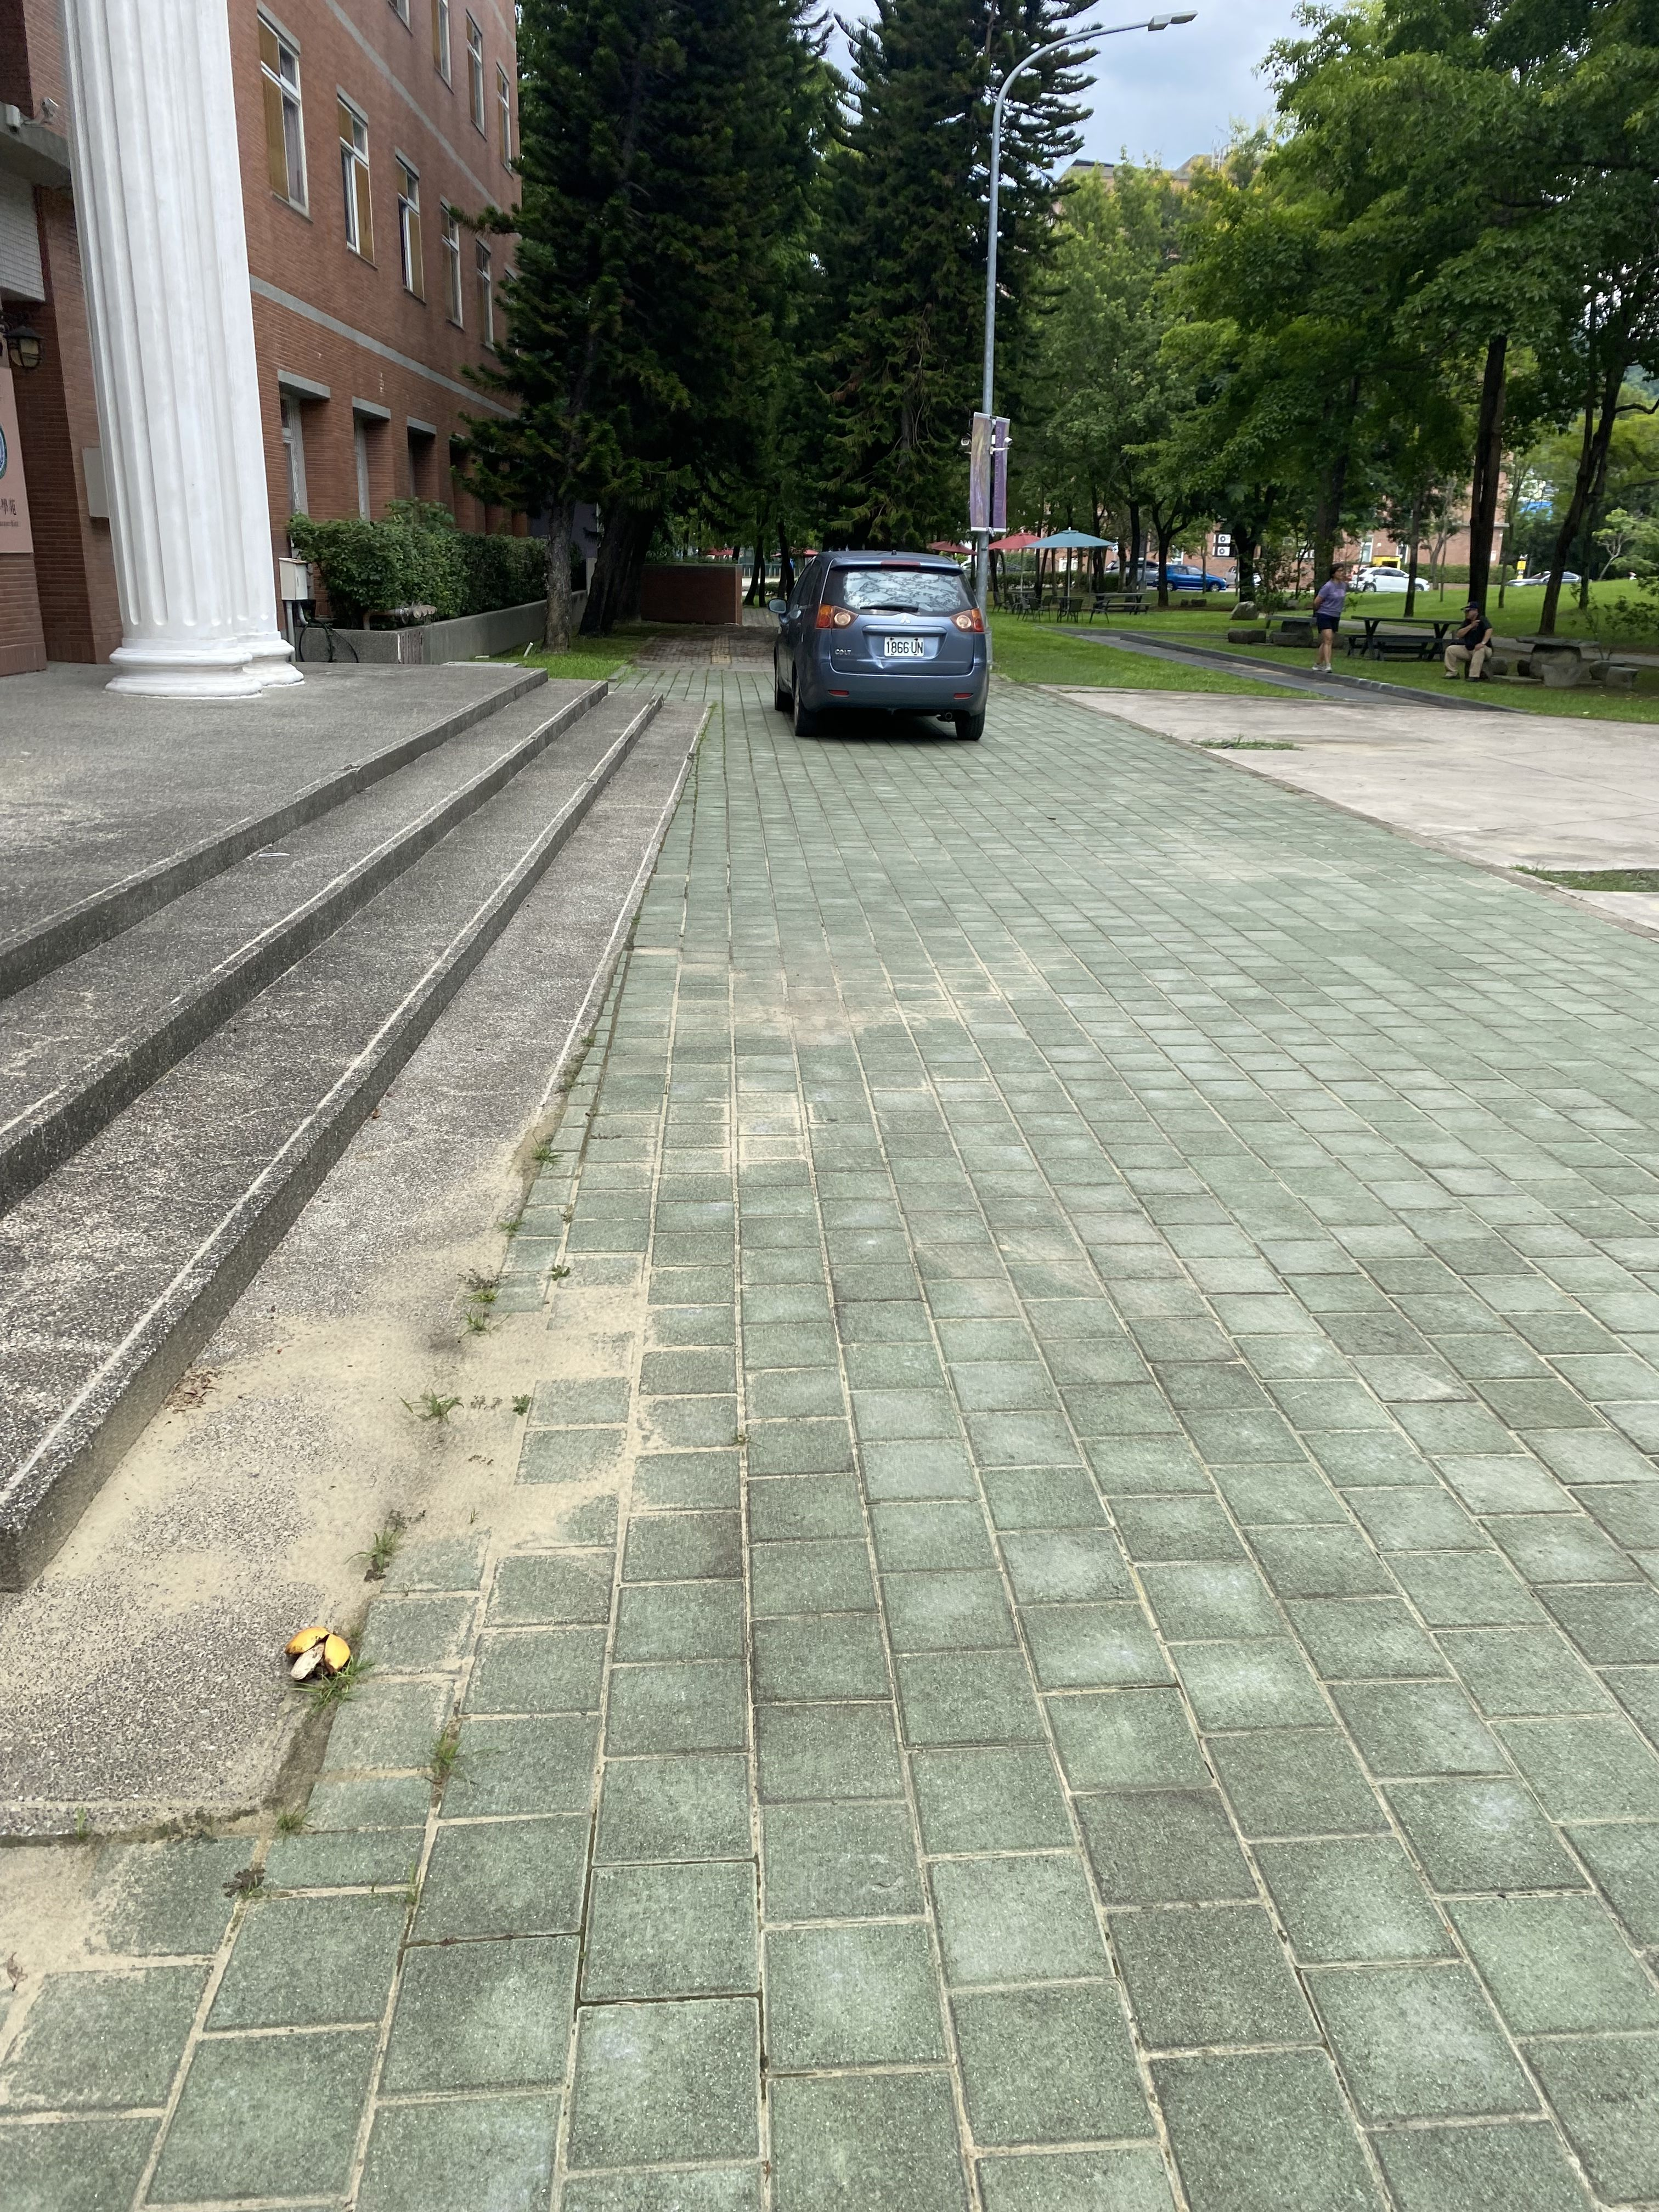sidewalk: (3, 636, 1659, 2212)
